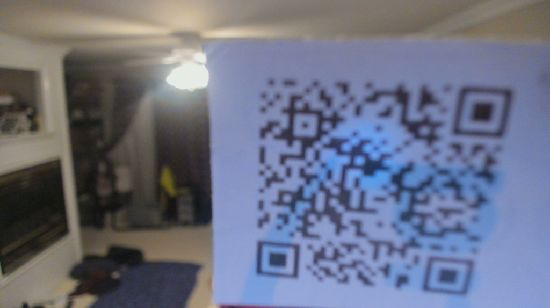QR_CODE: (245, 64, 521, 304)
